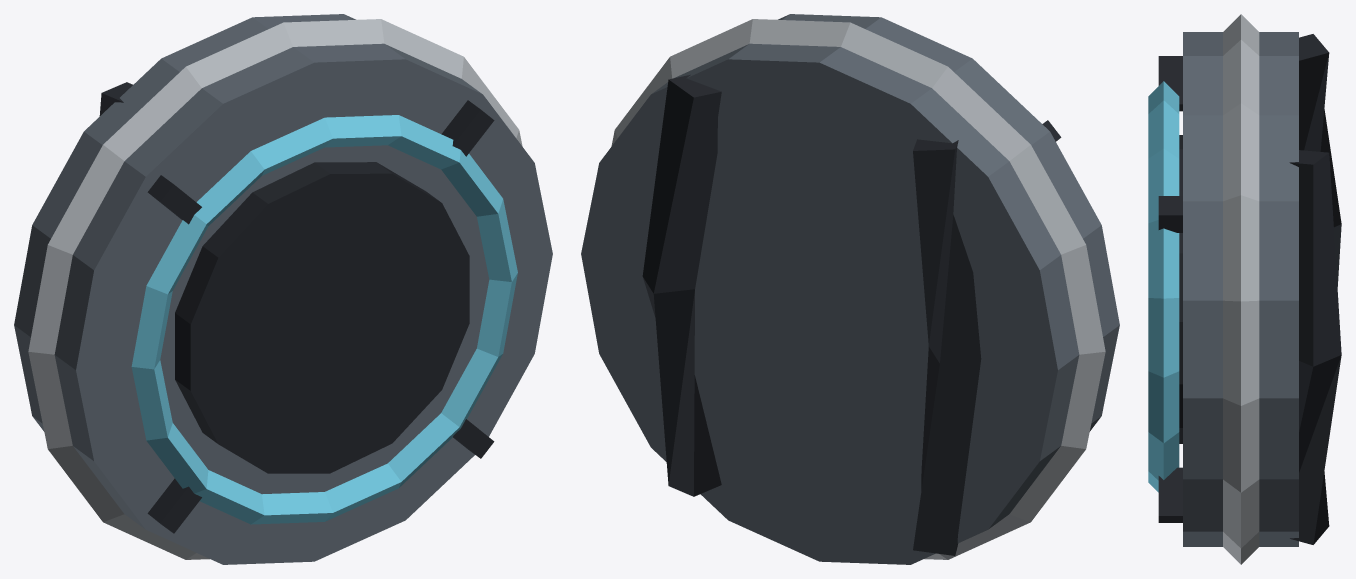
File: repulsor-pack.glb
3 renders of one model, left to right at view 1: azimuth 30°, elevation 25°; view 2: azimuth 150°, elevation 25°; view 3: azimuth 270°, elevation 25°, orthographic. The views are drawn at different scales.
Parts seen in each view (by area): view 1: m; view 2: m; view 3: m.
Boxes of the visible parts, x1=… form: m: x1=14, y1=14, x2=552, y2=564; m: x1=581, y1=14, x2=1119, y2=564; m: x1=1148, y1=14, x2=1341, y2=564.
Size of the model in its own units: 0.2 by 0.2 by 0.0701.
